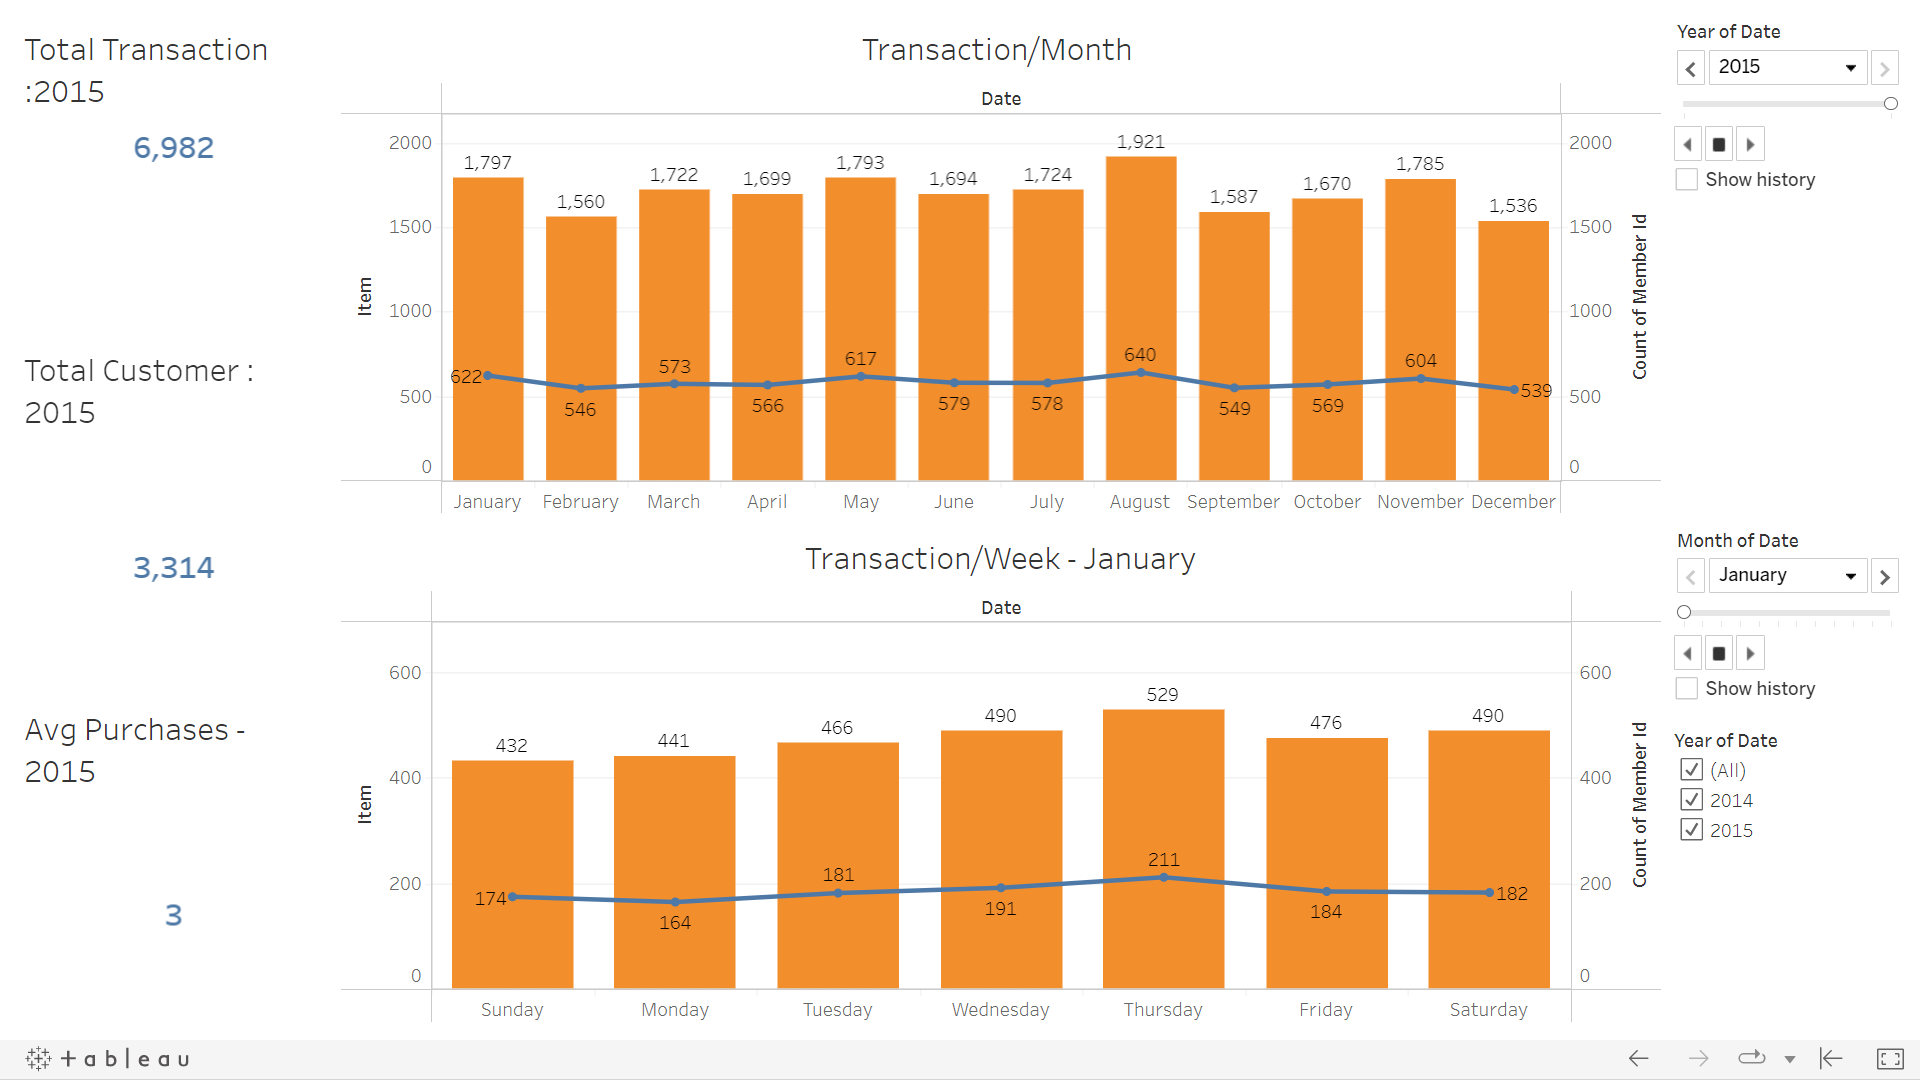

The page's visual inventory and layout, read from the dashboard file:
{"tool":"tableau","page":{"name":"Dashboard 2","canvas":[1000,1000],"units":"permille","ordinal":1},"visuals":[{"type":"worksheet","title":"Total Transaction","mark":"Automatic","box":[7.6,17.4,162.2,304.6]},{"type":"worksheet","title":"Transaction/Month","mark":"Automatic","rows":["item","member_id"],"cols":["date"],"box":[169.8,17.4,671.2,482.6]},{"type":"currpage","title":"Transaction/Month","box":[841.1,17.4,151.4,289.1]},{"type":"worksheet","title":"Total Customer","mark":"Automatic","box":[7.6,322,162.2,341.5]},{"type":"worksheet","title":"Transaction/Week","mark":"Automatic","rows":["item","member_id"],"cols":["date"],"box":[169.8,500,671.2,482.6]},{"type":"currpage","title":"Transaction/Week","box":[841.1,500,151.4,280.4]},{"type":"worksheet","title":"Avg Purchases","mark":"Automatic","box":[7.6,663.5,162.2,319.1]},{"type":"filter","title":"Transaction/Week","param":"[federated.0pn3hjy1huhgjr14d4jg00tn0860].[yr:date:ok]","box":[841.1,780.4,151.4,202.2]}]}

Visuals, with their boxes on the dashboard's canvas, which has no fixed pixel size, in thousandths of its width and height (x1, y1, x2, y2). These are canvas units, not pixel positions in the 1920x1080 screenshot, which may show the page scaled, cropped or inside an application window:
"Total Transaction" worksheet: bbox(8, 17, 170, 322)
"Transaction/Month" worksheet: bbox(170, 17, 841, 500)
"Transaction/Month" currpage: bbox(841, 17, 992, 306)
"Total Customer" worksheet: bbox(8, 322, 170, 664)
"Transaction/Week" worksheet: bbox(170, 500, 841, 983)
"Transaction/Week" currpage: bbox(841, 500, 992, 780)
"Avg Purchases" worksheet: bbox(8, 664, 170, 983)
"Transaction/Week" filter: bbox(841, 780, 992, 983)
